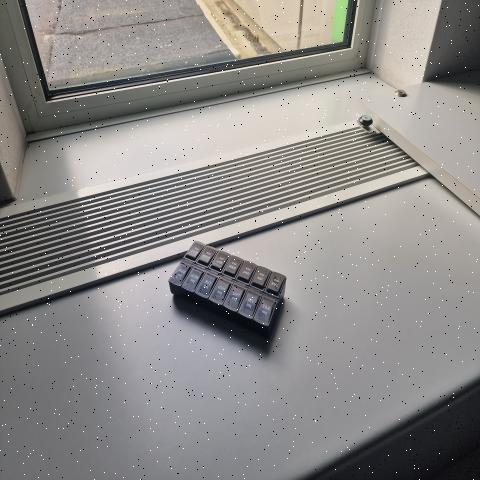Pill-box: (147, 220, 292, 373)
